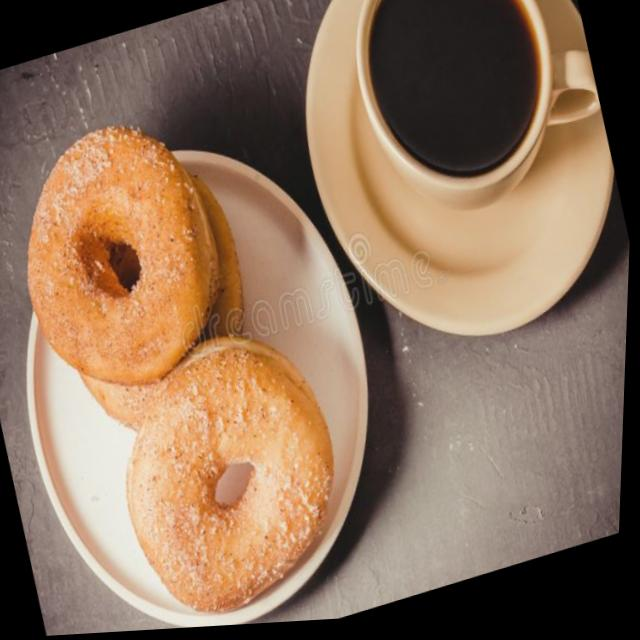donut: (92, 307, 375, 635), (0, 100, 252, 413)
kopi hitam: (324, 0, 586, 244)
